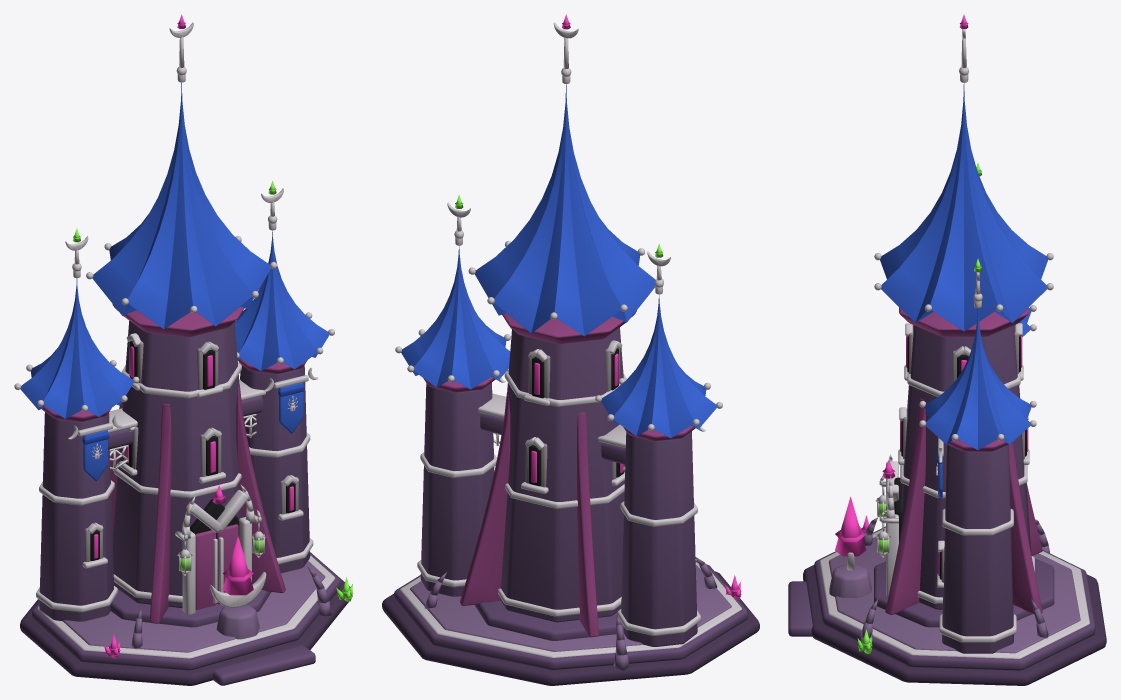
Rendered from Spire.glb.
The picture shows the model from 3 angles, left to right: view 1: azimuth 30°, elevation 25°; view 2: azimuth 150°, elevation 25°; view 3: azimuth 270°, elevation 25°; orthographic projection. The views are drawn at different scales.
Visible parts, largest first — view 1: Spire; view 2: Spire; view 3: Spire.
Part boxes in pixels (x1,y1,x2,y2): Spire: [14, 14, 353, 685]; Spire: [382, 14, 759, 685]; Spire: [788, 14, 1106, 685].
Bounding box in the file's own units: 3.73 × 7.13 × 3.42.
